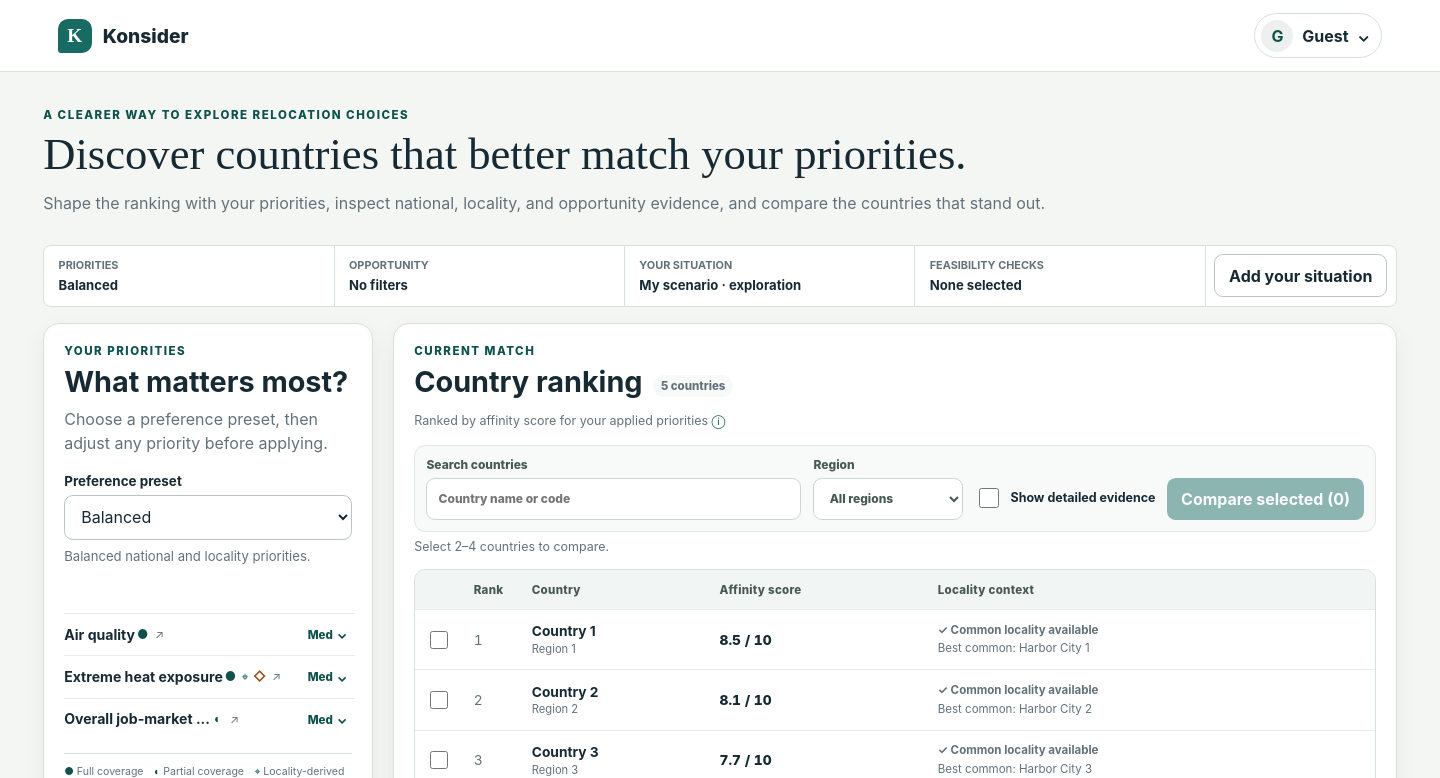
Test: shows criterion names, symbols, and score-only detailed ranking cells
Expected: the heading "Country ranking" is shown, [414, 365, 642, 398]
Expected: the text "Best common: Harbor City 1" is shown, [938, 641, 1090, 655]
What coordinates should you click on to do the following:
click the checkbox labelled "Show detailed evidence"
I would click on:
 (990, 498)
Its box is [980, 488, 1000, 508].
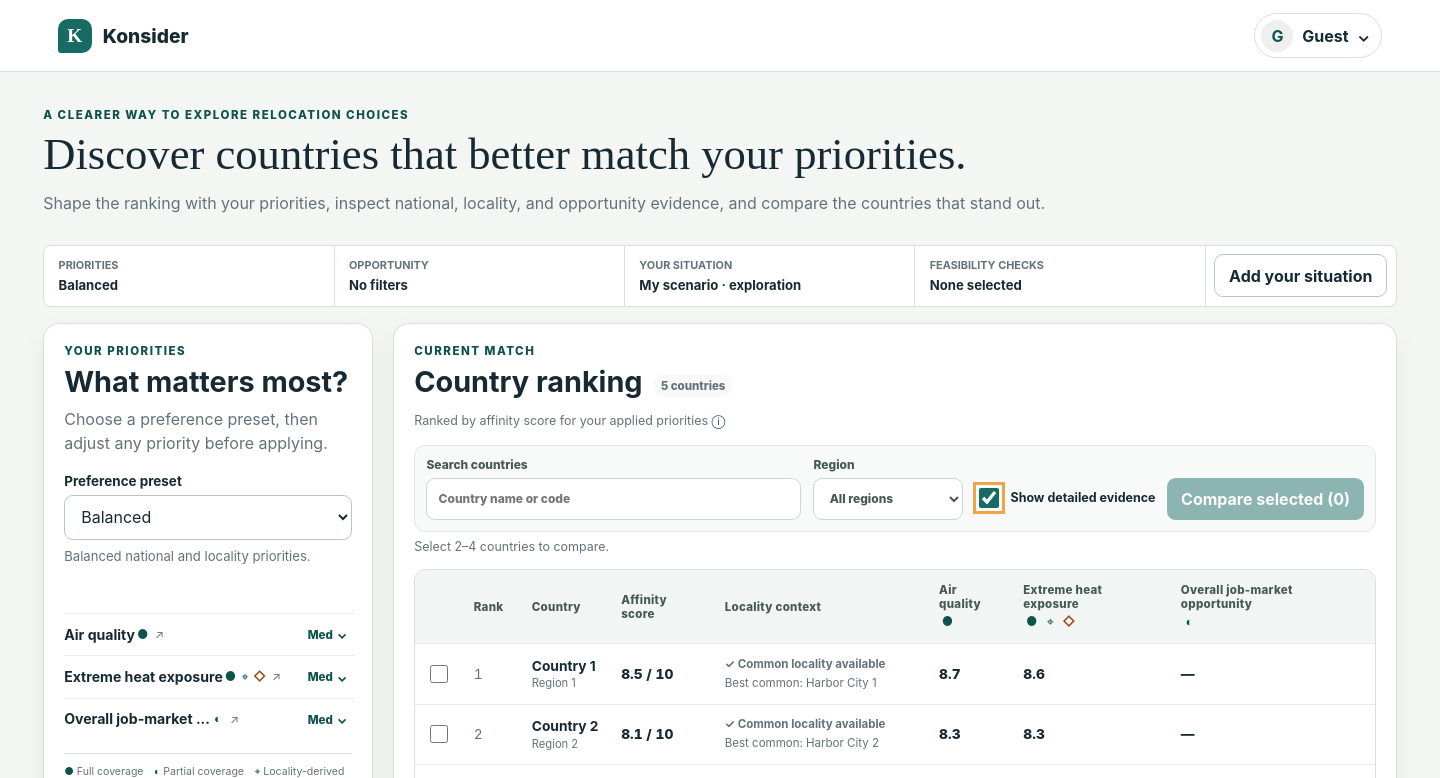
Expected: the element named "Full-coverage criterion" is shown, [1026, 614, 1038, 629]
Expected: the element named "Locality-derived criterion" is shown, [1047, 614, 1054, 629]
Expected: the element named "Experimental criterion" is shown, [1062, 614, 1076, 629]
